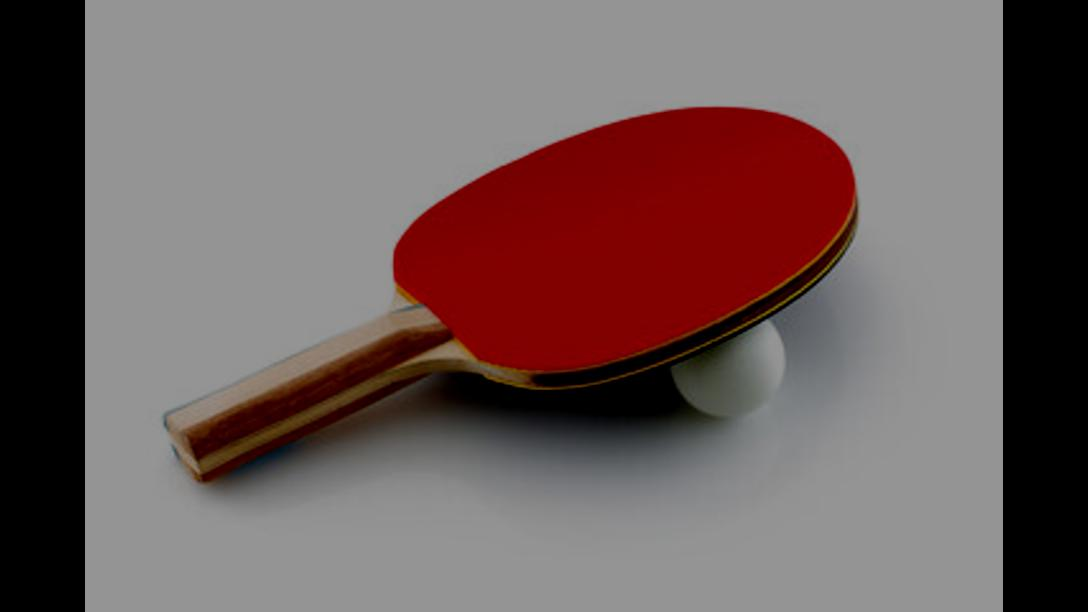Table-Tennis-Ball: (670, 316, 786, 416)
